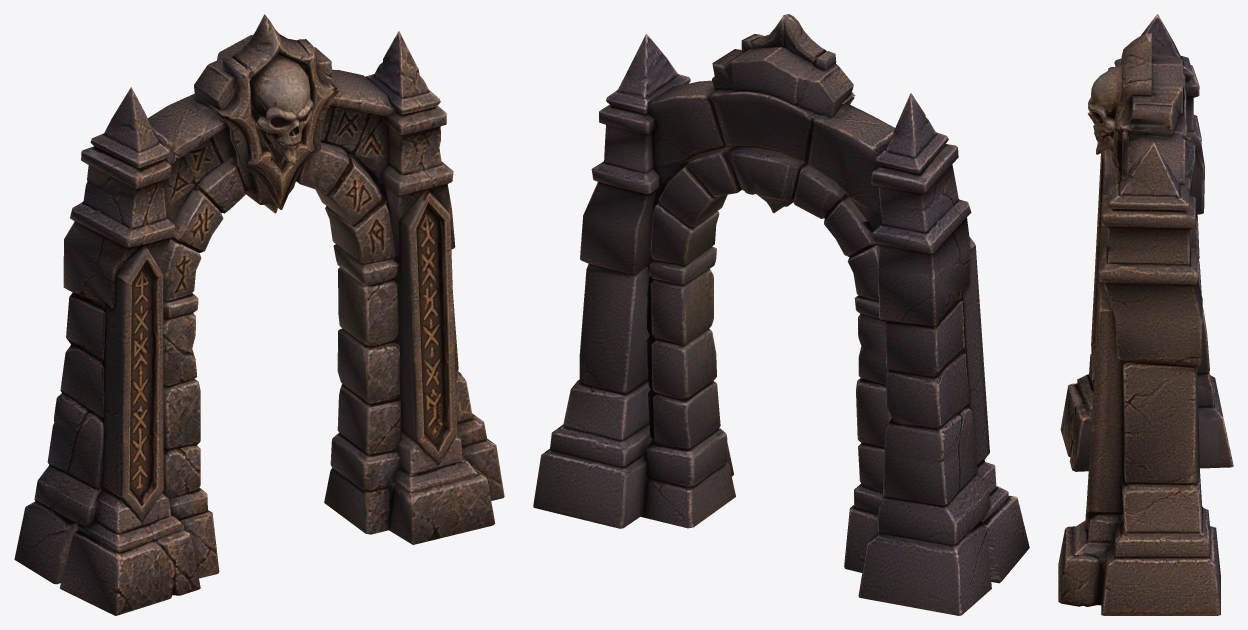
The model's file is prop_arch.glb.
3 views of the same model, side by side, from view 1: azimuth 30°, elevation 25°; view 2: azimuth 150°, elevation 25°; view 3: azimuth 270°, elevation 25° (orthographic). The views are drawn at different scales.
Visible parts, largest first — view 1: tripo_node_56105244-e53b-4fd0-bfa6-b6b65b28e094; view 2: tripo_node_56105244-e53b-4fd0-bfa6-b6b65b28e094; view 3: tripo_node_56105244-e53b-4fd0-bfa6-b6b65b28e094.
Part boxes in pixels (bbox=[...]): tripo_node_56105244-e53b-4fd0-bfa6-b6b65b28e094: bbox=[14, 14, 504, 615]; tripo_node_56105244-e53b-4fd0-bfa6-b6b65b28e094: bbox=[533, 14, 1029, 615]; tripo_node_56105244-e53b-4fd0-bfa6-b6b65b28e094: bbox=[1058, 14, 1233, 615].
Bounding box in the file's own units: 0.8618 × 0.9995 × 0.3257.
1 material, 1 textured.
